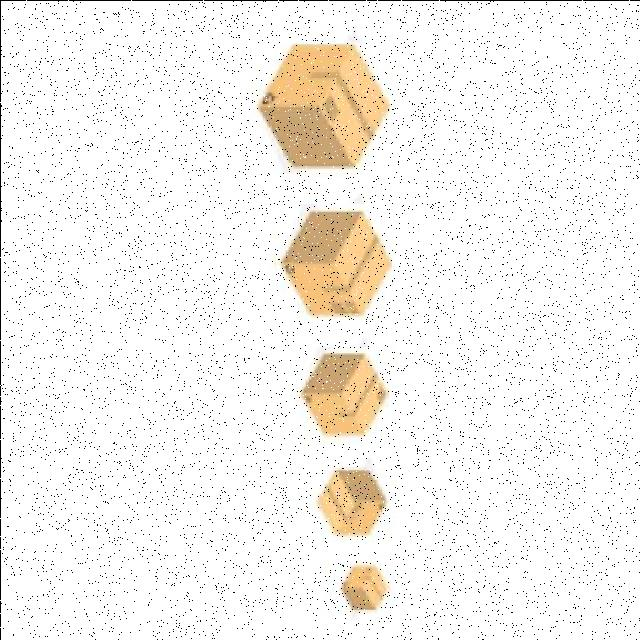normal: (249, 42, 394, 172), (275, 203, 391, 319), (297, 346, 389, 439), (312, 468, 392, 537), (331, 558, 395, 620)
